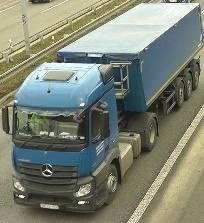truck: (2, 3, 201, 213)
